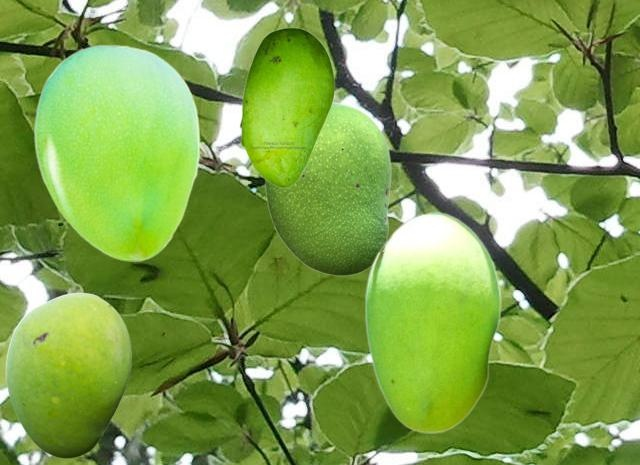green_mango: (33, 44, 199, 260), (364, 211, 500, 432), (264, 101, 390, 275), (5, 292, 130, 457), (239, 27, 334, 187)
